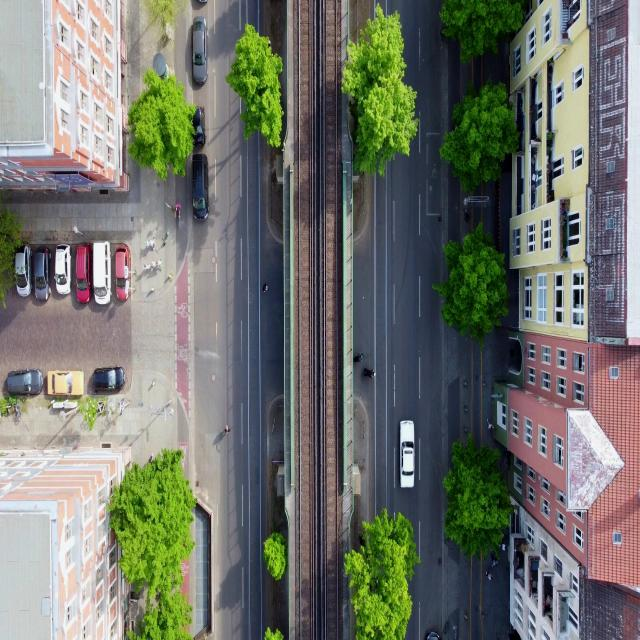Car: (394, 409, 422, 495), (190, 154, 212, 230)
